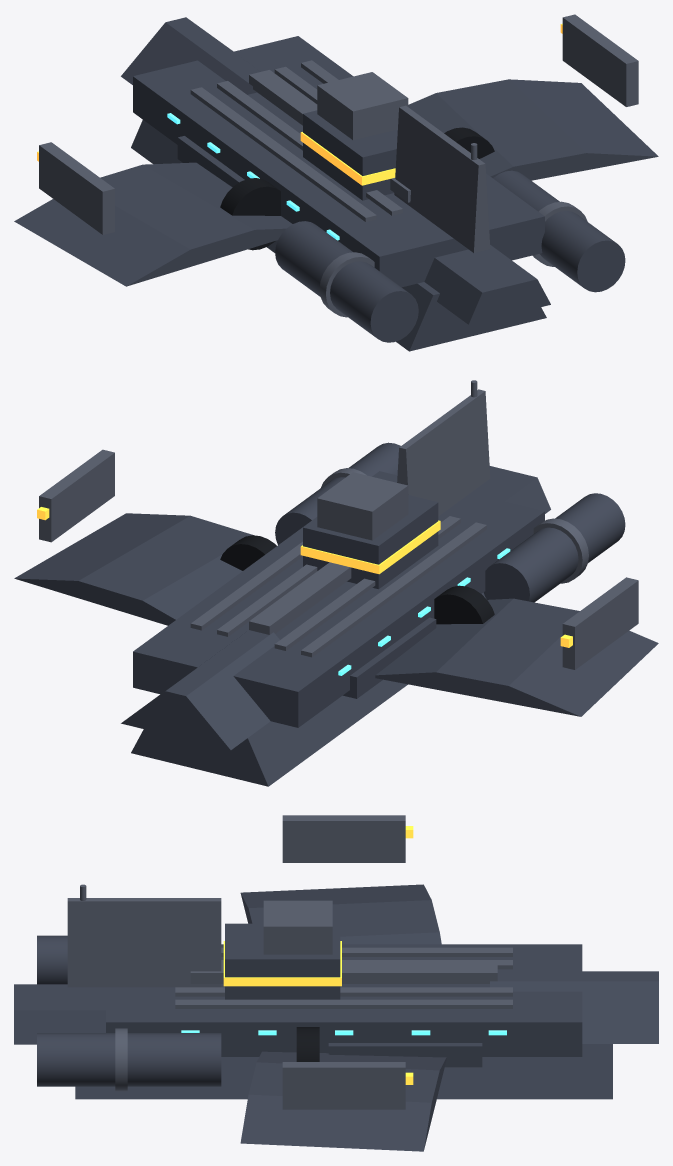
Rendered from mothership.glb.
The picture shows the model from 3 angles, top to bottom: view 1: azimuth 30°, elevation 25°; view 2: azimuth 150°, elevation 25°; view 3: azimuth 270°, elevation 25°; orthographic projection. The views are drawn at different scales.
Visible parts, largest first — view 1: deck, wingL, wingR, dorsal, nacL, tail, nacR, keel, nose, bridgeTop, bridge, wingfinR (+11 smaller); view 2: deck, wingL, wingR, keel, nose, dorsal, nacL, bridge, bridgeTop, wingfinL, wingfinR, plate0 (+11 smaller); view 3: deck, dorsal, wingR, keel, nacR, nose, wingL, wingfinL, wingfinR, bridge, tail, bridgeTop (+10 smaller).
Boxes of the visible parts, bbox=[...] form: deck: bbox=[133, 36, 544, 287]; wingL: bbox=[14, 162, 292, 286]; wingR: bbox=[408, 79, 658, 180]; dorsal: bbox=[394, 105, 490, 252]; nacL: bbox=[275, 221, 418, 342]; tail: bbox=[424, 245, 550, 324]; nacR: bbox=[493, 170, 625, 292]; keel: bbox=[131, 120, 546, 351]; nose: bbox=[121, 17, 260, 94]; bridgeTop: bbox=[317, 72, 408, 140]; bridge: bbox=[303, 110, 397, 200]; wingfinR: bbox=[562, 14, 638, 106]; deck: bbox=[133, 471, 544, 727]; wingL: bbox=[375, 598, 658, 716]; wingR: bbox=[14, 513, 253, 625]; keel: bbox=[131, 592, 486, 786]; nose: bbox=[121, 630, 279, 750]; dorsal: bbox=[397, 389, 490, 516]; nacL: bbox=[483, 493, 625, 602]; bridge: bbox=[303, 495, 438, 589]; bridgeTop: bbox=[317, 472, 408, 540]; wingfinL: bbox=[562, 577, 638, 669]; wingfinR: bbox=[39, 449, 114, 542]; plate0: bbox=[301, 522, 486, 657]; deck: bbox=[106, 944, 582, 1056]; dorsal: bbox=[67, 898, 221, 987]; wingR: bbox=[240, 1051, 446, 1151]; keel: bbox=[75, 1044, 612, 1099]; nacR: bbox=[37, 1033, 221, 1086]; nose: bbox=[490, 971, 658, 1043]; wingL: bbox=[240, 884, 441, 944]; wingfinL: bbox=[282, 815, 405, 862]; wingfinR: bbox=[282, 1062, 405, 1109]; bridge: bbox=[225, 923, 340, 999]; tail: bbox=[14, 984, 105, 1044]; bridgeTop: bbox=[263, 900, 332, 954].
Bounding box in the file's own units: 0.0823 × 0.026 × 0.084.
